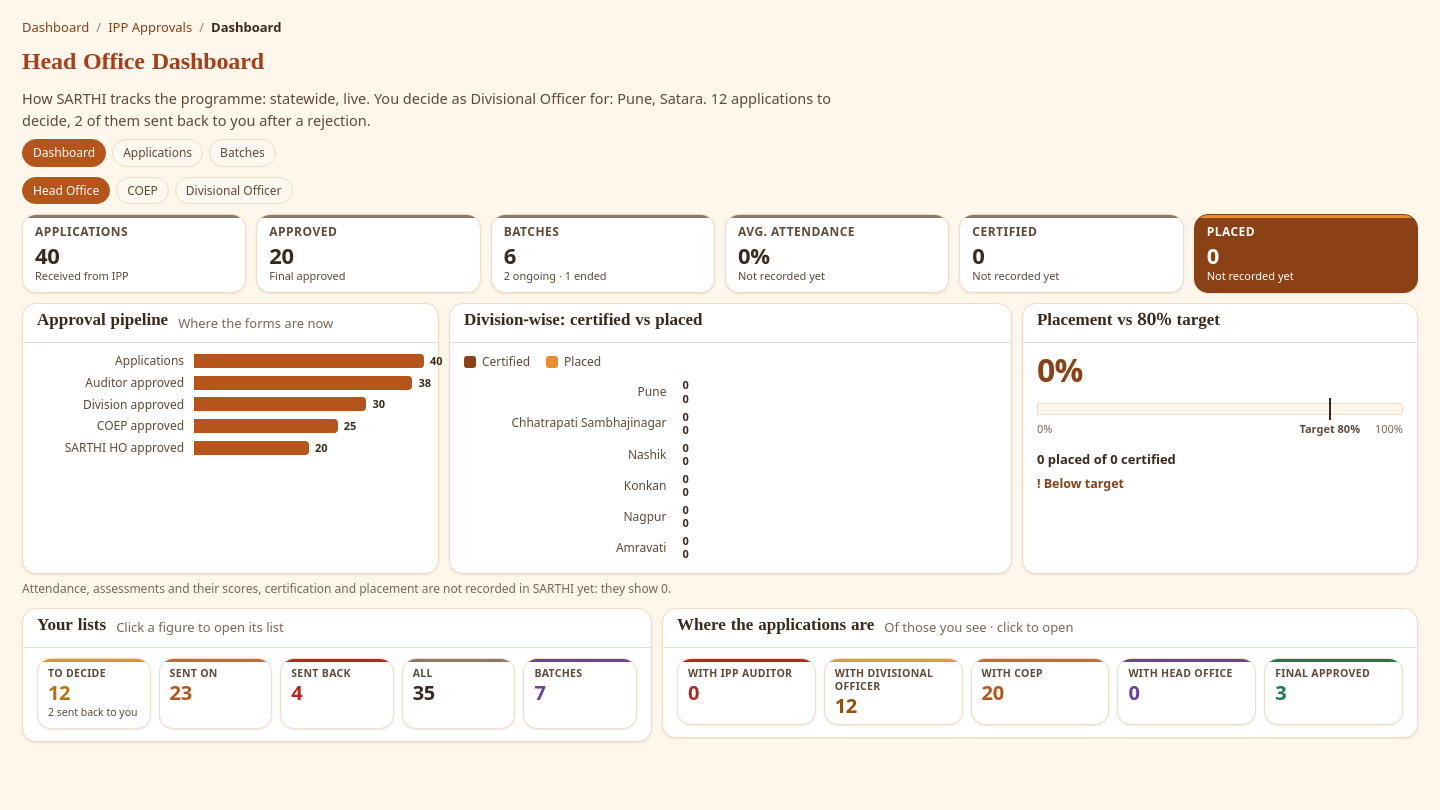
Test: IPP dashboard - the dashboard of each level › a user of several levels switches between their dashboards
The width and height of the screenshot is (1440, 810).
Expected: the heading "Head Office Dashboard" is shown, [22,46,264,84]
Click the button "COEP": (143, 191) [116,177,169,204]
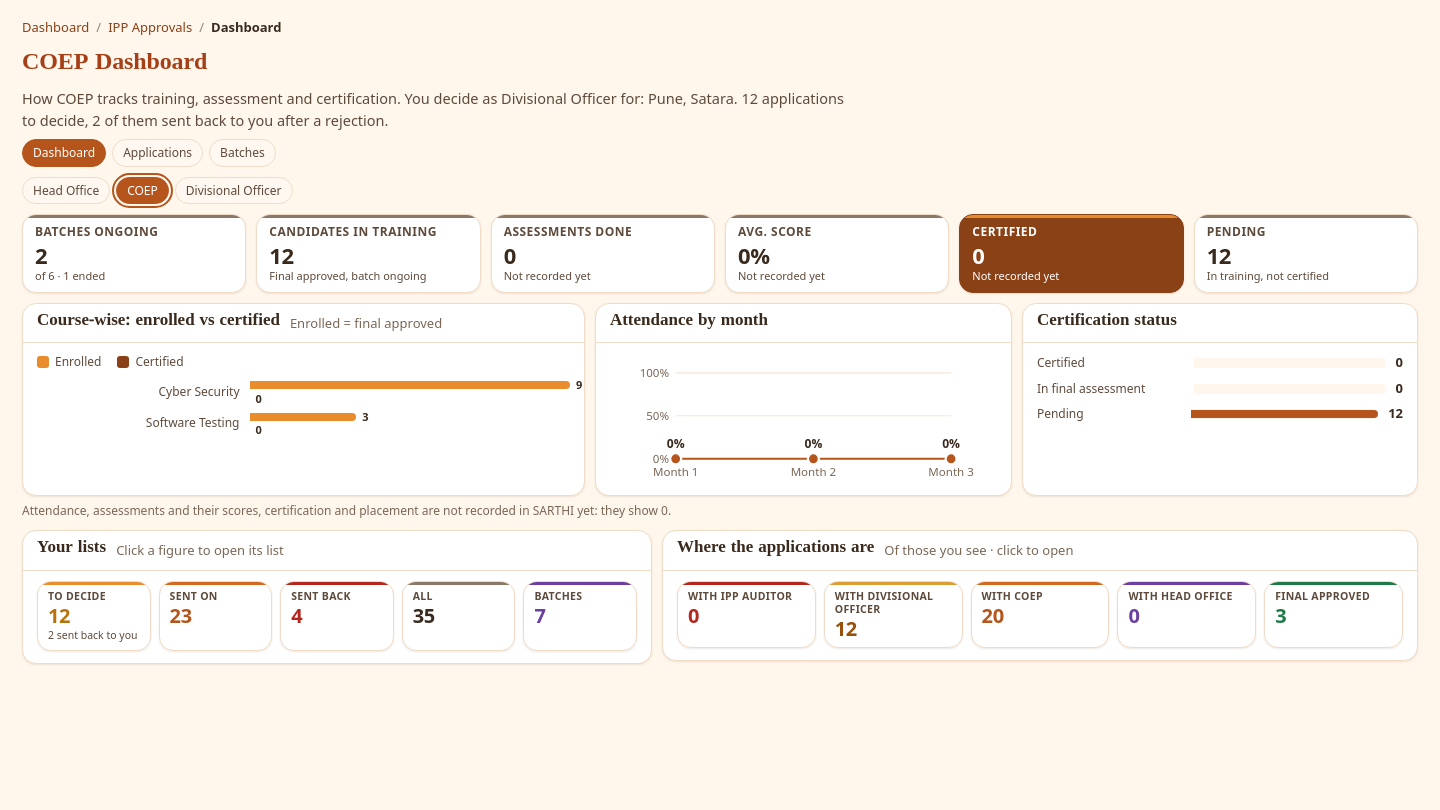
Expected: the heading "COEP Dashboard" is shown, [22,46,207,84]
Click the button "Divisional Officer": (234, 191) [175,177,292,204]
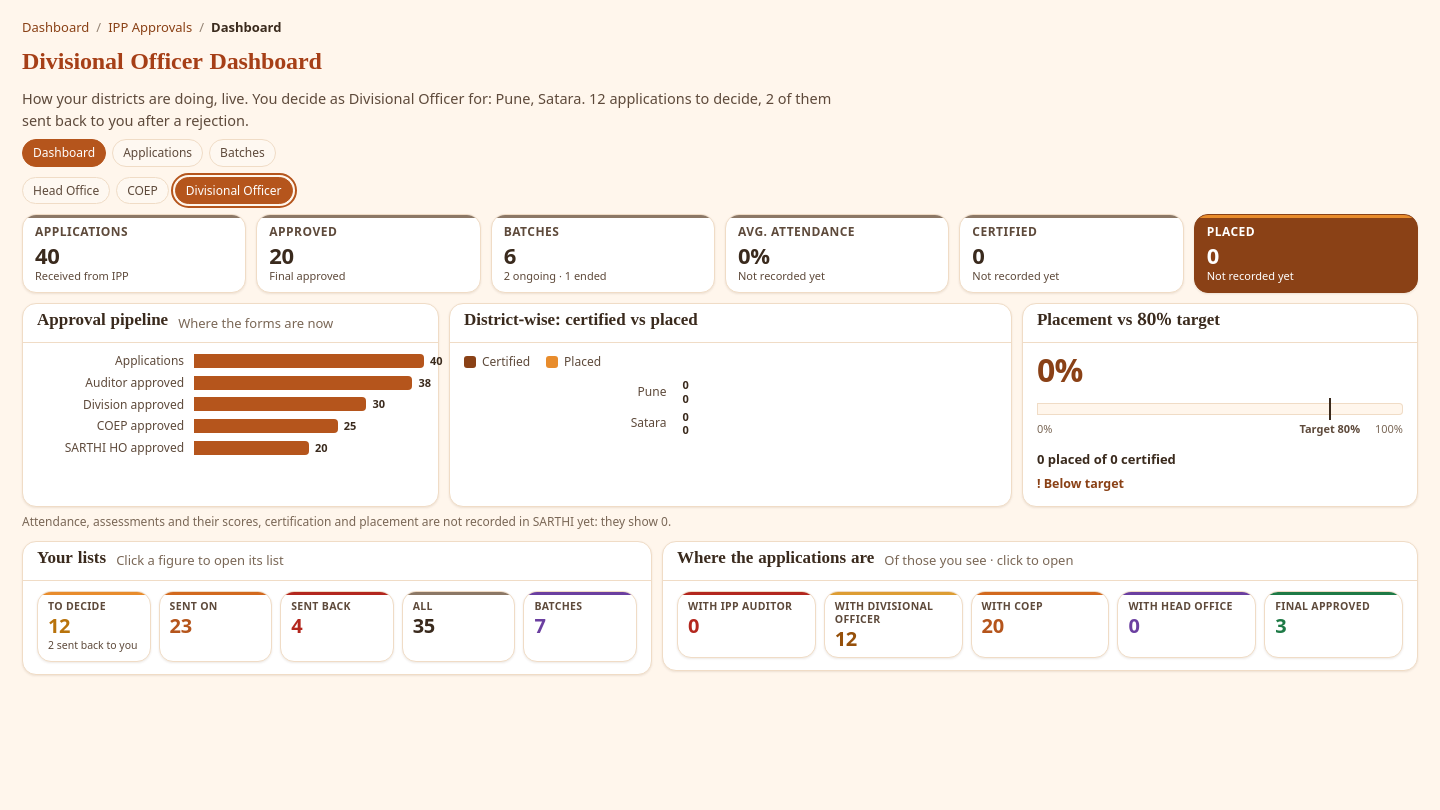
Expected: the heading "Divisional Officer Dashboard" is shown, [22,46,322,84]
